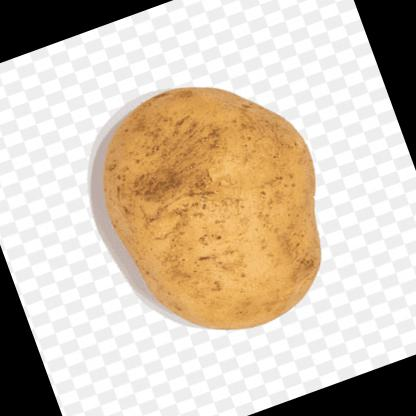potato: (72, 50, 362, 364)
